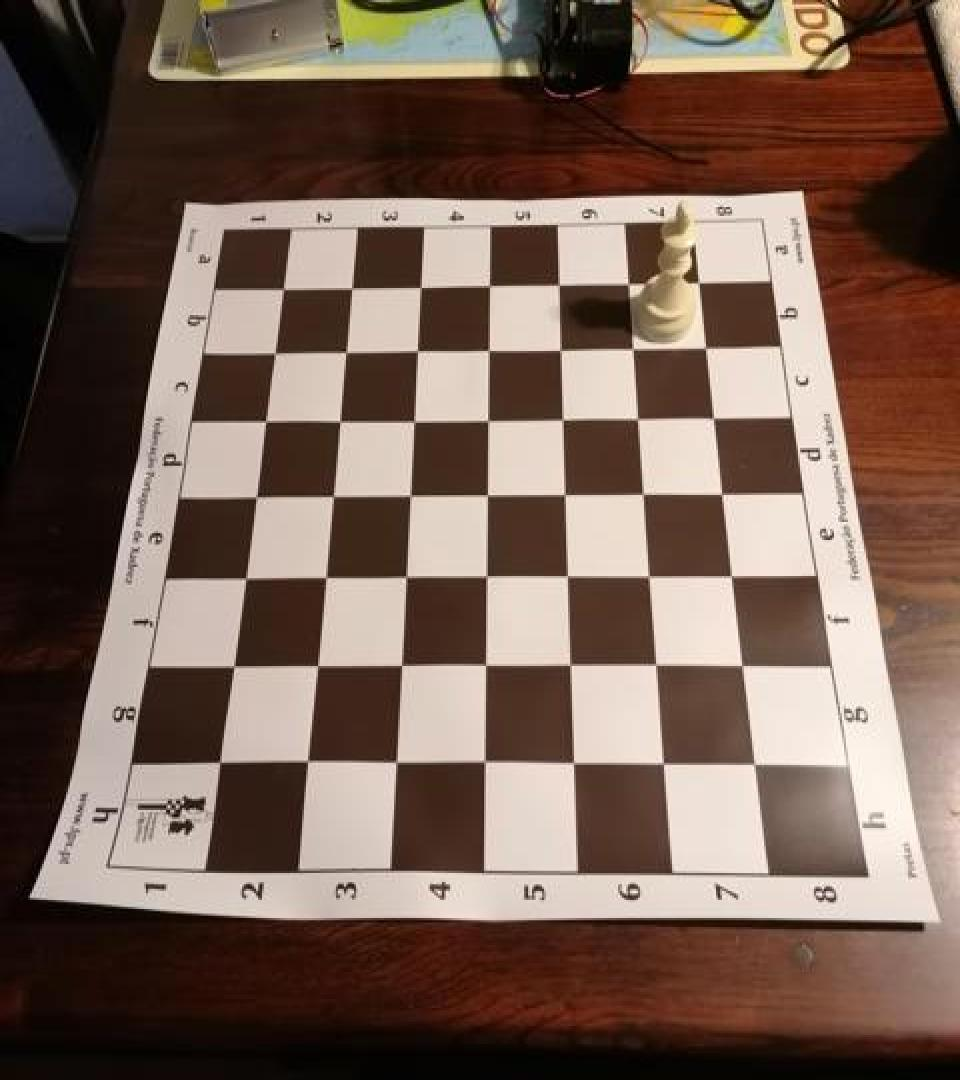xcorner: (729, 644, 761, 681), (648, 742, 680, 779), (556, 742, 588, 779), (465, 741, 497, 778), (375, 741, 407, 778), (686, 263, 718, 299), (615, 264, 647, 300), (545, 266, 577, 302), (405, 269, 437, 305), (337, 270, 369, 306), (269, 271, 301, 307), (694, 326, 726, 362), (546, 330, 578, 366), (474, 331, 506, 367), (401, 332, 433, 368), (330, 333, 362, 369), (259, 334, 291, 370), (701, 396, 733, 432), (624, 397, 656, 433), (548, 398, 580, 434), (472, 400, 504, 436), (397, 400, 429, 436), (323, 400, 355, 436), (249, 402, 281, 438), (710, 472, 742, 508), (629, 472, 661, 508), (550, 472, 582, 508), (471, 474, 503, 510), (392, 474, 424, 510), (315, 475, 347, 511), (238, 476, 270, 512), (719, 554, 751, 590), (635, 554, 667, 590), (552, 554, 584, 590), (469, 554, 501, 590), (387, 554, 419, 590), (306, 556, 338, 592), (226, 556, 258, 592), (641, 644, 673, 680), (554, 644, 586, 680), (467, 644, 499, 680), (382, 644, 414, 680), (297, 644, 329, 680), (213, 644, 245, 680), (741, 744, 773, 780), (286, 740, 318, 776), (199, 739, 231, 775), (475, 267, 507, 302), (620, 329, 652, 364)
